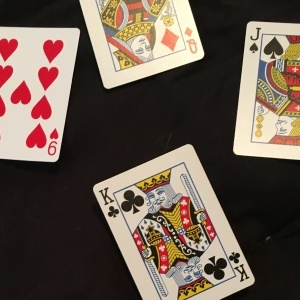card: (77, 1, 209, 93), (231, 21, 299, 159)
